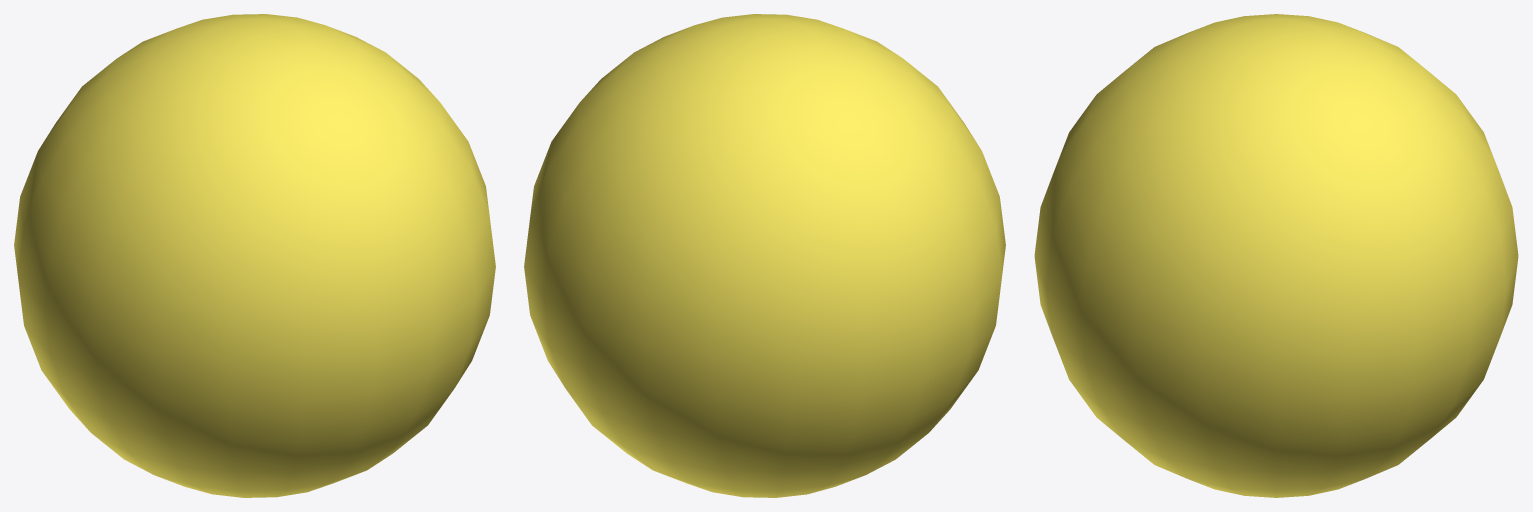
File: balloon_yellow.glb
The picture shows the model from 3 angles, left to right: view 1: azimuth 30°, elevation 25°; view 2: azimuth 150°, elevation 25°; view 3: azimuth 270°, elevation 25°; orthographic projection.
Parts seen in each view (by area): view 1: primitive; view 2: primitive; view 3: primitive.
Boxes of the visible parts, box(x1,y1,x2,y2) form: primitive: box(14, 14, 495, 497); primitive: box(524, 14, 1005, 497); primitive: box(1034, 14, 1518, 497).
Size of the model in its own units: 0.24 by 0.24 by 0.24.
